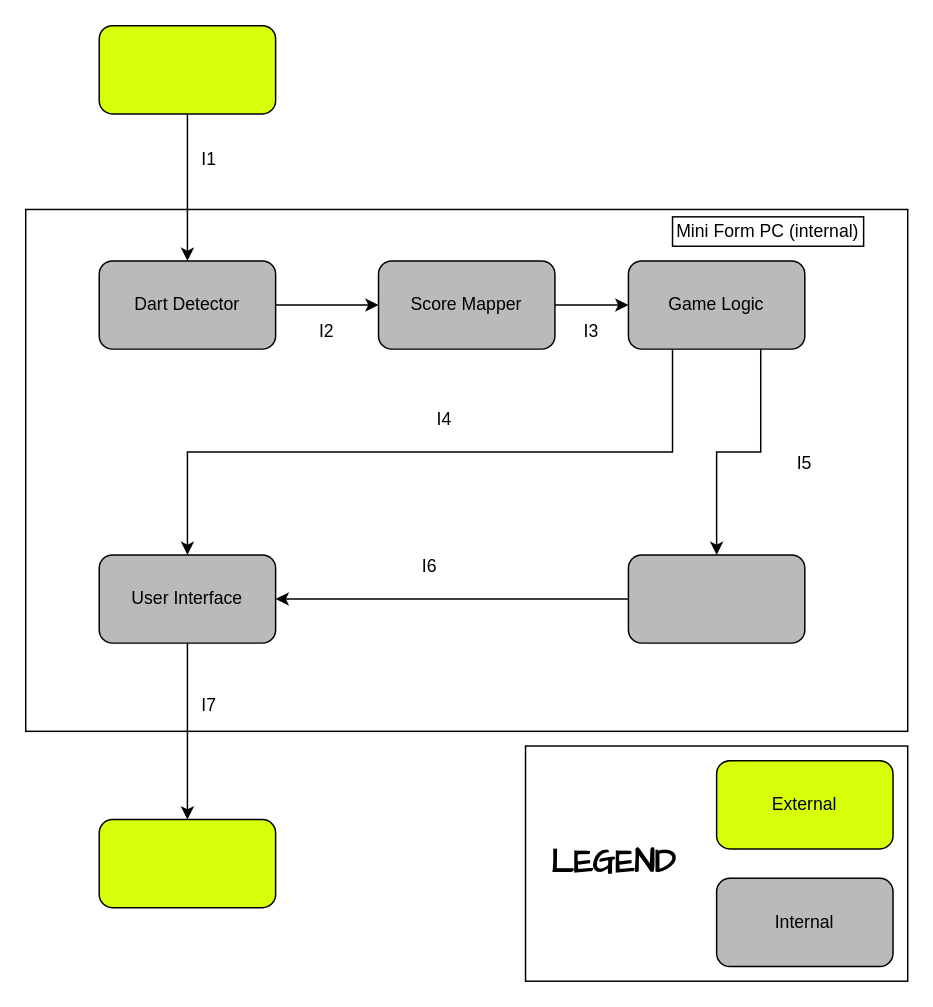
The diagram is 933 pixels wide and 1007 high, and some of its shapes have lost their labels. Each missing label, with the box of its shape:
Database: (627, 553, 805, 643)
Display Screen: (98, 818, 276, 908)
Two Cameras (USBC): (98, 24, 276, 114)
